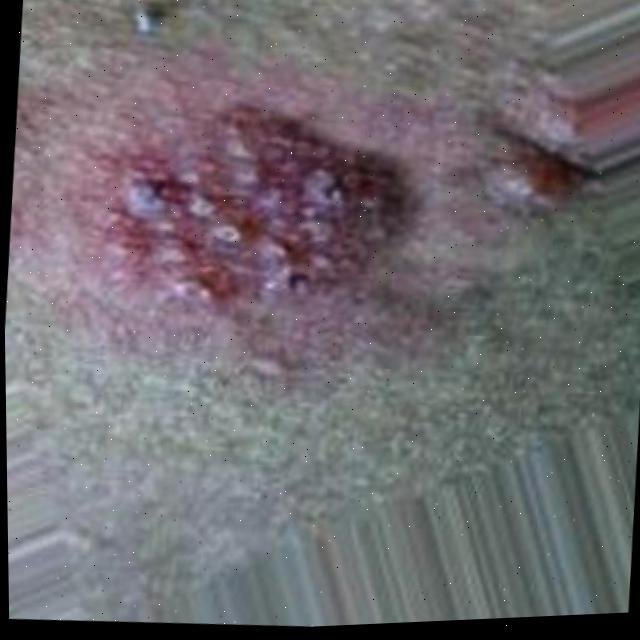Shingles: (103, 99, 413, 330)
